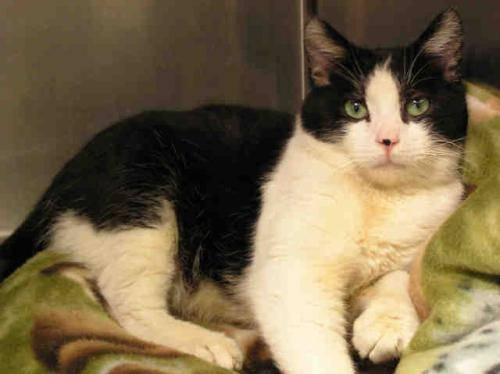cat: (0, 10, 469, 373), (0, 294, 115, 373)
